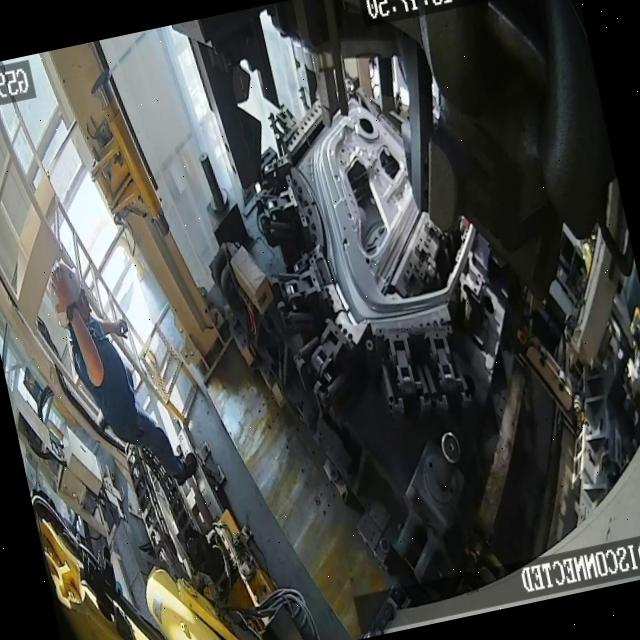Person: (45, 241, 202, 504)
